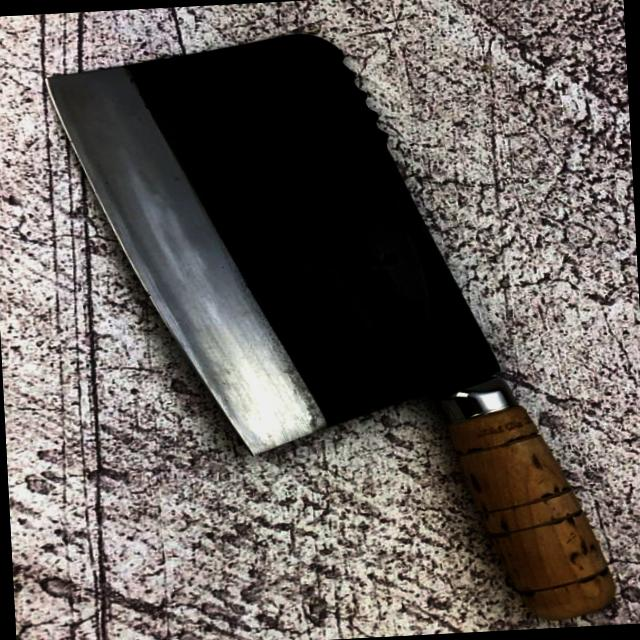cleaver: (44, 24, 619, 640)
